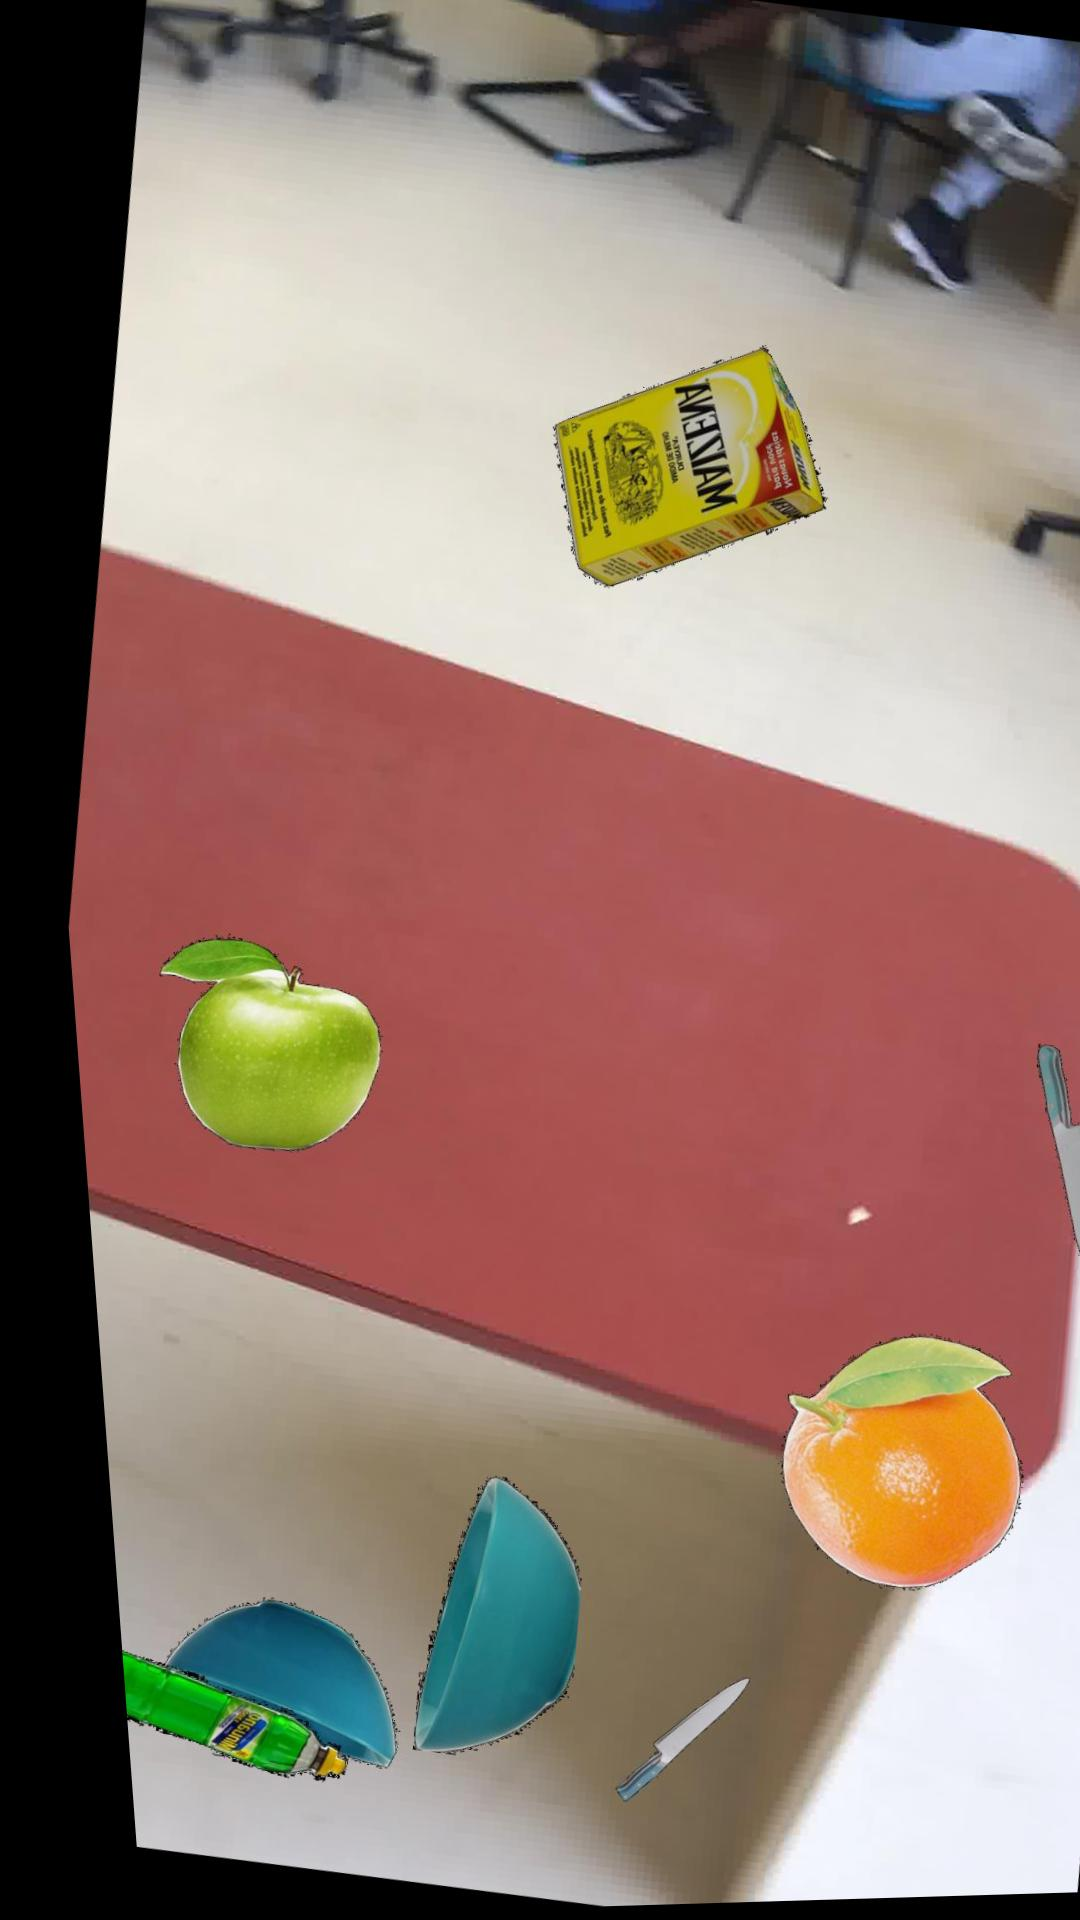bowl: (384, 1476, 553, 1751), (136, 1597, 367, 1767)
cleaner: (96, 1648, 318, 1779)
green apple: (141, 935, 361, 1149)
knife: (584, 1679, 720, 1801), (1017, 1047, 1077, 1280)
orange: (754, 1337, 994, 1592)
